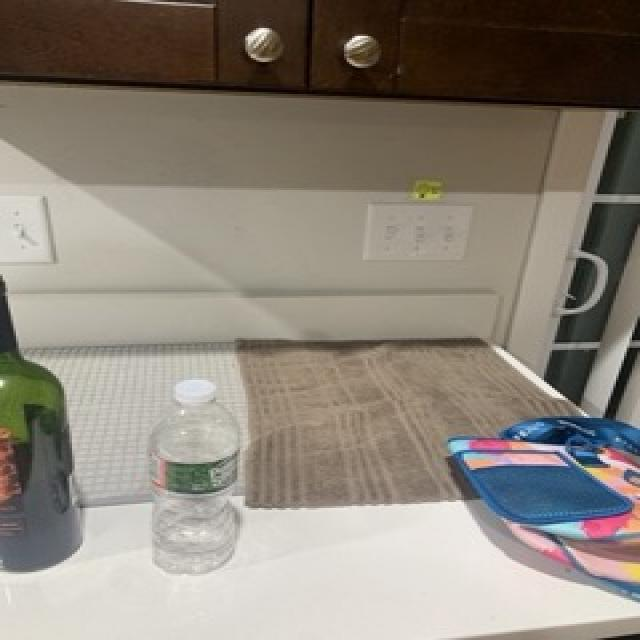water_bottle: (146, 376, 248, 574)
